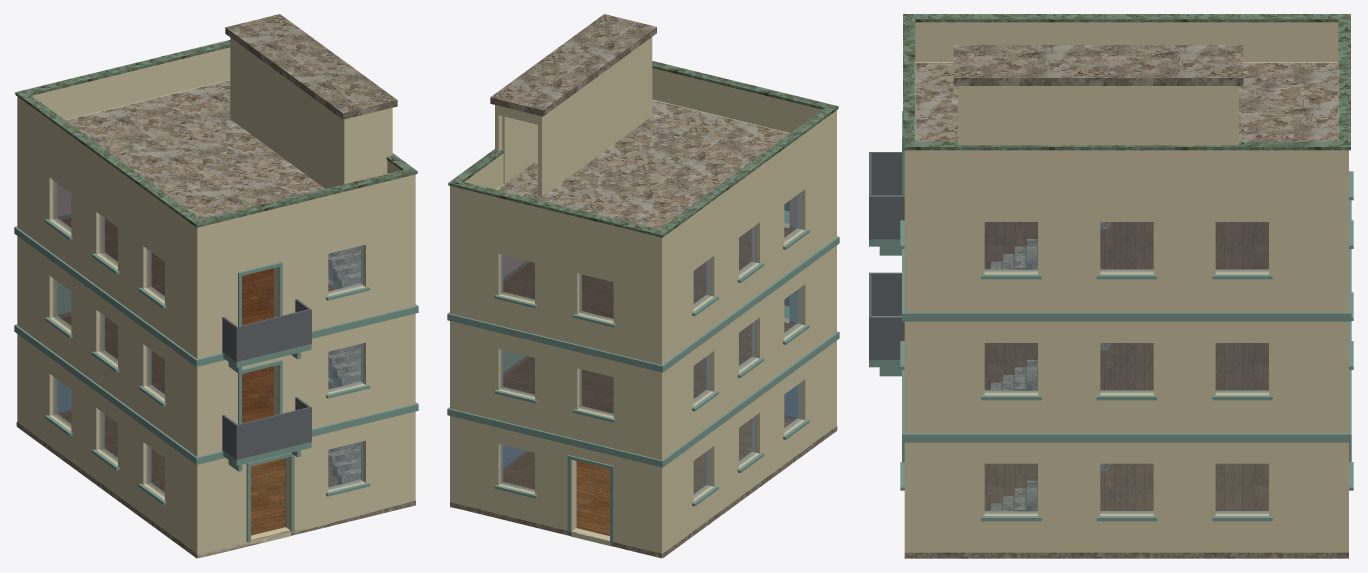
File: bay-townhouse-yellow.zfix-v9.lod0.glb
3 renders of one model, left to right at view 1: azimuth 30°, elevation 25°; view 2: azimuth 150°, elevation 25°; view 3: azimuth 270°, elevation 25°, orthographic. The views are drawn at different scales.
Visible parts, largest first — view 1: bay-townhouse-yellow; view 2: bay-townhouse-yellow; view 3: bay-townhouse-yellow.
Boxes of the visible parts, box(x1,y1,x2,y2) form: bay-townhouse-yellow: box(14, 14, 418, 558); bay-townhouse-yellow: box(447, 14, 839, 558); bay-townhouse-yellow: box(869, 14, 1353, 558).
Bounding box in the file's own units: 7.2 × 11.96 × 10.91.
4 materials, 2 textured.
